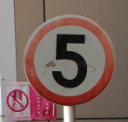speed_limit_5: (23, 15, 116, 106)
